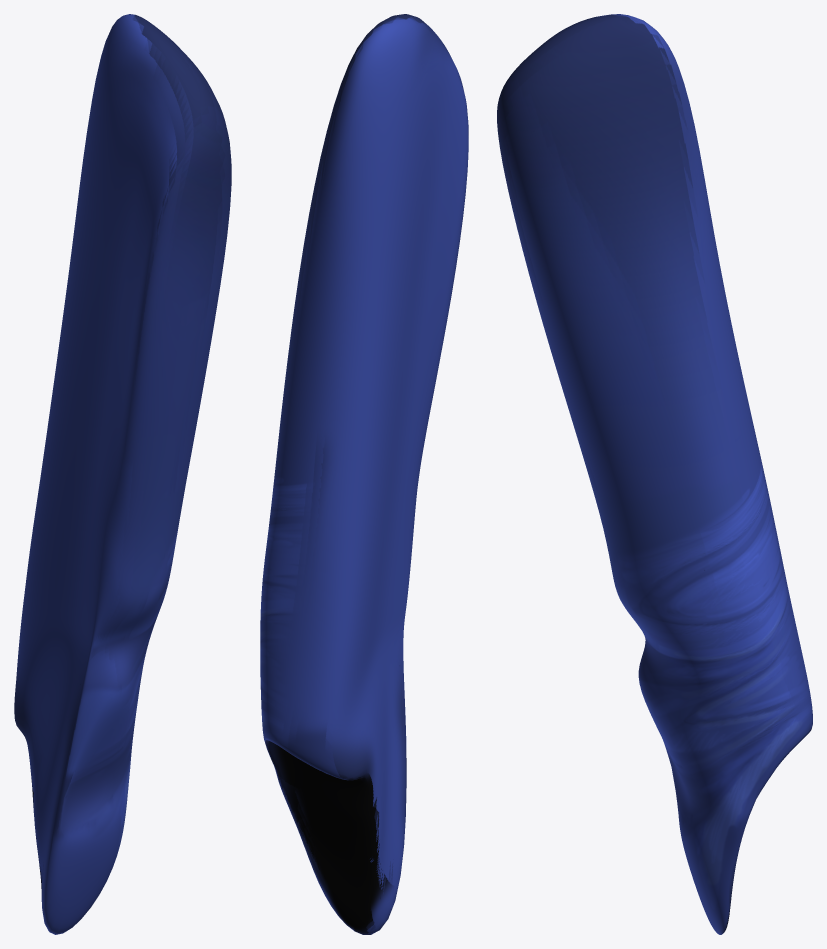
The model's file is sleeve.fbx.
3 views of the same model, side by side, from view 1: azimuth 30°, elevation 25°; view 2: azimuth 150°, elevation 25°; view 3: azimuth 270°, elevation 25° (orthographic). The views are drawn at different scales.
Visible parts, largest first — view 1: Cube; view 2: Cube; view 3: Cube.
Part boxes in pixels (x1=…): Cube: x1=14, y1=14, x2=231, y2=934; Cube: x1=260, y1=14, x2=468, y2=934; Cube: x1=497, y1=14, x2=812, y2=934.
Size of the model in its own units: 254 by 1814 by 559.
